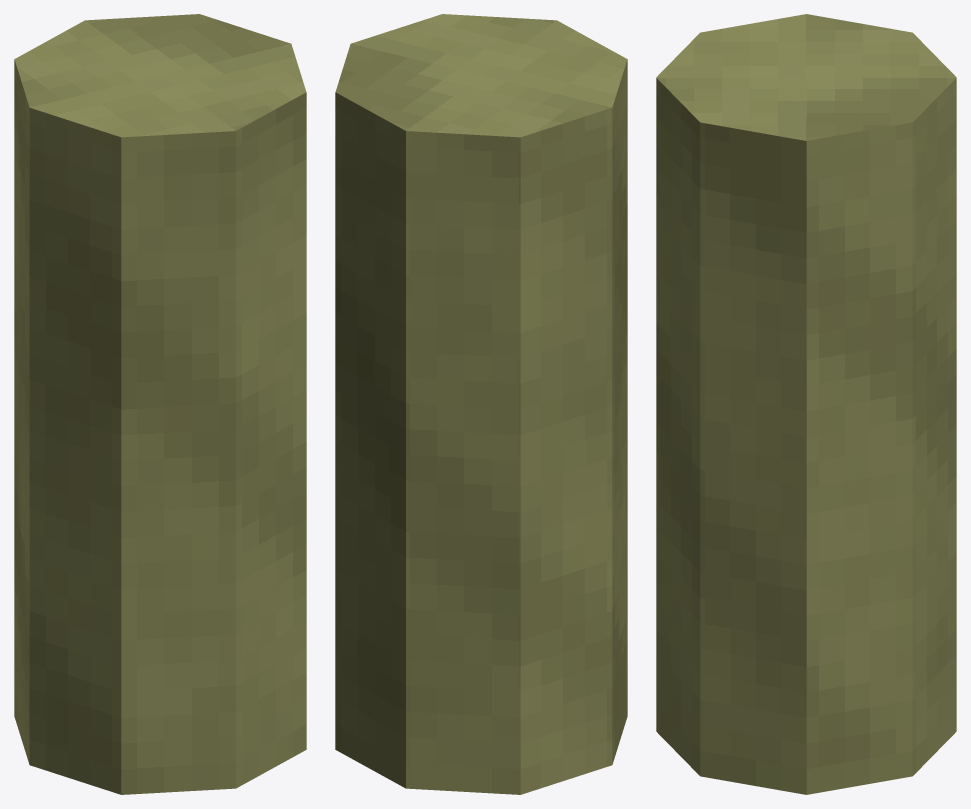
File: Prop_Candle.fbx
The picture shows the model from 3 angles, left to right: view 1: azimuth 30°, elevation 25°; view 2: azimuth 150°, elevation 25°; view 3: azimuth 270°, elevation 25°; orthographic projection.
Visible parts, largest first — view 1: Prop_Candle; view 2: Prop_Candle; view 3: Prop_Candle.
Part boxes in pixels (x1=…): Prop_Candle: x1=14, y1=14, x2=306, y2=794; Prop_Candle: x1=335, y1=14, x2=627, y2=794; Prop_Candle: x1=656, y1=14, x2=956, y2=794.
Size of the model in its own units: 0.05 by 0.12 by 0.05.
1 material, 1 textured.
